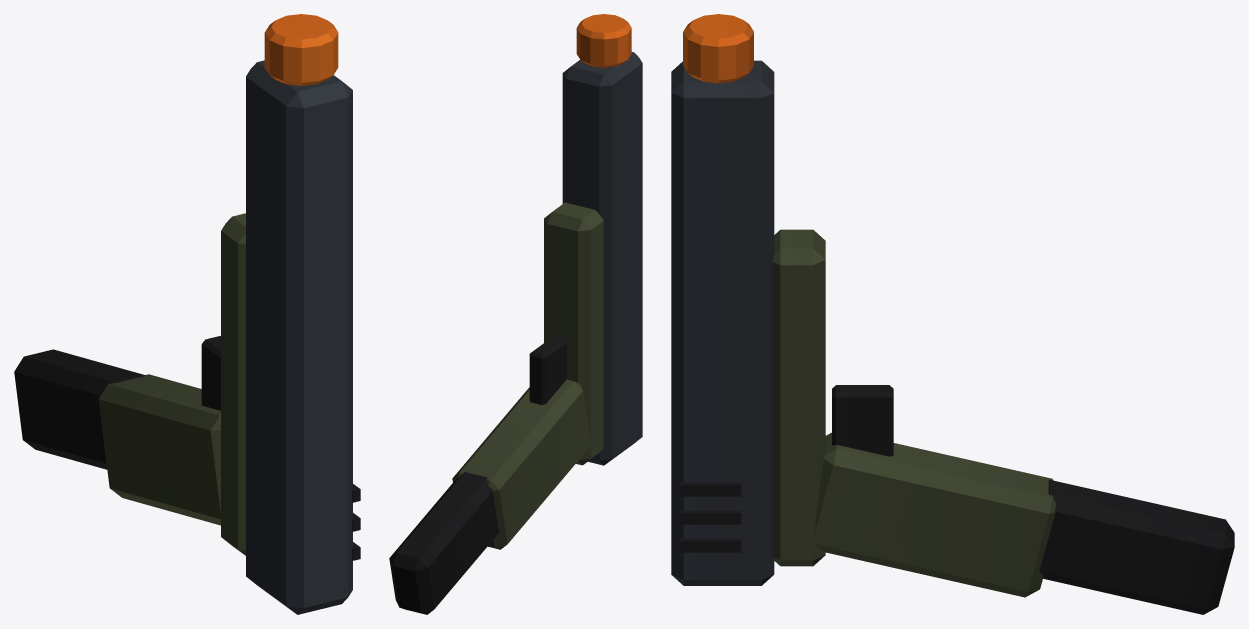
The model's file is rattler.glb.
3 renders of one model, left to right at view 1: azimuth 30°, elevation 25°; view 2: azimuth 150°, elevation 25°; view 3: azimuth 270°, elevation 25°, orthographic. The views are drawn at different scales.
Visible parts, largest first — view 1: rattler; view 2: rattler; view 3: rattler.
Part boxes in pixels (box(x1,y1,x2,y2)): rattler: box(14, 14, 360, 614); rattler: box(389, 14, 642, 614); rattler: box(671, 14, 1234, 614).
Size of the model in its own units: 0.039 by 0.3115 by 0.2735.
